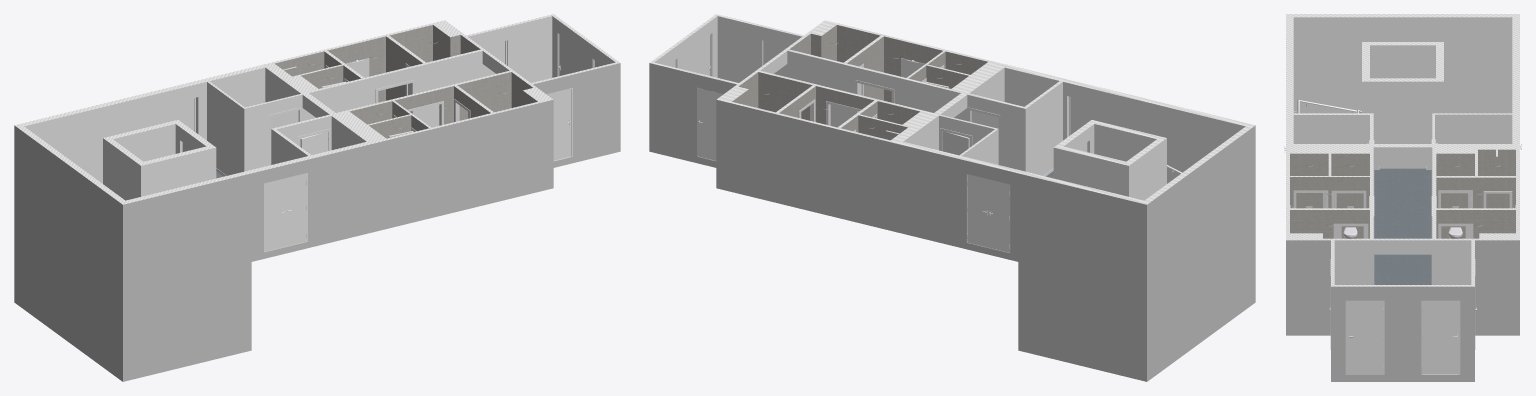
The model's file is r2_common_area.gltf.
3 renders of one model, left to right at view 1: azimuth 30°, elevation 25°; view 2: azimuth 150°, elevation 25°; view 3: azimuth 270°, elevation 25°, orthographic. The views are drawn at different scales.
Visible parts, largest first — view 1: masonry_02, masonry_03, masonry_04, section_face_01, masonry_05, masonry_06, masonry_01, door_02, door_05, door_01, door_03, interior_door_panel_03; view 2: masonry_02, masonry_03, masonry_04, section_face_01, masonry_06, masonry_05, masonry_01, door_01, door_06, door_02, door_04, interior_door_panel_02; view 3: masonry_03, masonry_02, section_face_01, masonry_05, masonry_06, masonry_04, masonry_01, ground_corridor_01, door_03, door_04, ground_corridor_02, elevator_door_01 (+6 smaller).
Part boxes in pixels (x1=…): masonry_02: x1=14, y1=63, x2=620, y2=381; masonry_03: x1=24, y1=82, x2=307, y2=200; masonry_04: x1=209, y1=51, x2=509, y2=171; section_face_01: x1=14, y1=14, x2=619, y2=204; masonry_05: x1=274, y1=25, x2=480, y2=102; masonry_06: x1=350, y1=72, x2=537, y2=138; masonry_01: x1=468, y1=16, x2=615, y2=82; door_02: x1=264, y1=173, x2=307, y2=252; door_05: x1=547, y1=88, x2=572, y2=161; door_01: x1=154, y1=97, x2=195, y2=132; door_03: x1=558, y1=34, x2=575, y2=76; interior_door_panel_03: x1=300, y1=132, x2=328, y2=155; masonry_02: x1=649, y1=63, x2=1255, y2=381; masonry_03: x1=962, y1=82, x2=1245, y2=200; masonry_04: x1=760, y1=51, x2=1059, y2=171; section_face_01: x1=650, y1=14, x2=1255, y2=204; masonry_06: x1=789, y1=25, x2=987, y2=102; masonry_05: x1=732, y1=72, x2=919, y2=140; masonry_01: x1=654, y1=16, x2=801, y2=82; door_01: x1=966, y1=174, x2=1010, y2=253; door_06: x1=697, y1=88, x2=722, y2=161; door_02: x1=1069, y1=96, x2=1110, y2=135; door_04: x1=694, y1=34, x2=711, y2=76; interior_door_panel_02: x1=942, y1=131, x2=969, y2=155; masonry_03: x1=1293, y1=17, x2=1512, y2=167; masonry_02: x1=1286, y1=240, x2=1519, y2=381; section_face_01: x1=1286, y1=14, x2=1519, y2=286; masonry_05: x1=1436, y1=149, x2=1515, y2=238; masonry_06: x1=1290, y1=153, x2=1369, y2=238; masonry_04: x1=1293, y1=114, x2=1512, y2=161; masonry_01: x1=1334, y1=240, x2=1471, y2=284; ground_corridor_01: x1=1374, y1=168, x2=1431, y2=237; door_03: x1=1421, y1=300, x2=1460, y2=374; door_04: x1=1345, y1=300, x2=1384, y2=374; ground_corridor_02: x1=1374, y1=238, x2=1431, y2=284; elevator_door_01: x1=1379, y1=95, x2=1402, y2=168.
Size of the model in its own units: 16.59 by 5.4 by 6.09.
124 materials, 101 textured.
